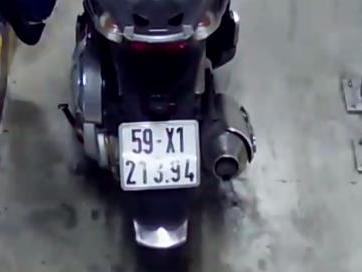num_plate: (117, 120, 203, 191)
